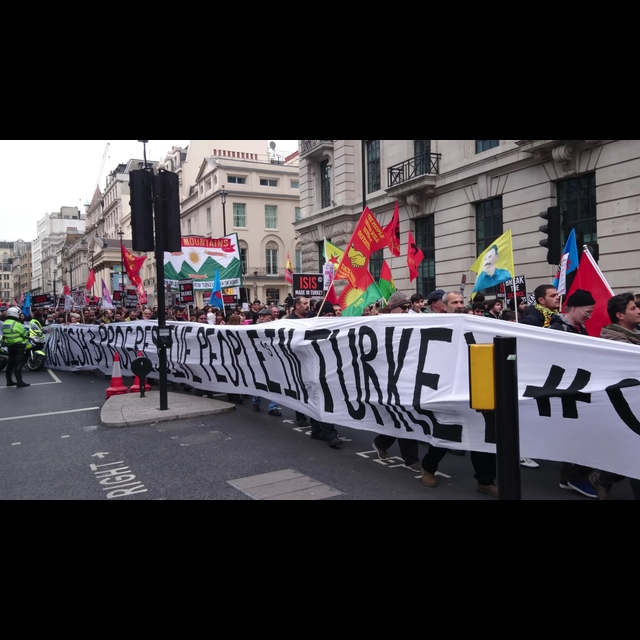APO: (484, 249, 502, 275)
